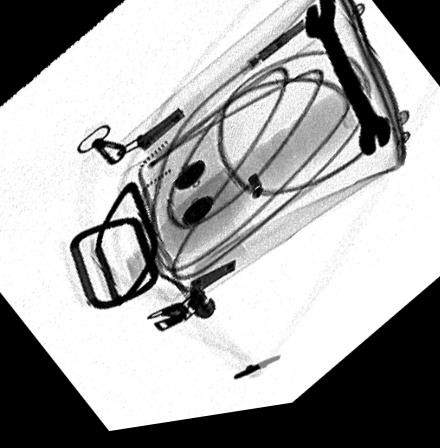Wrench: (303, 0, 389, 167)
